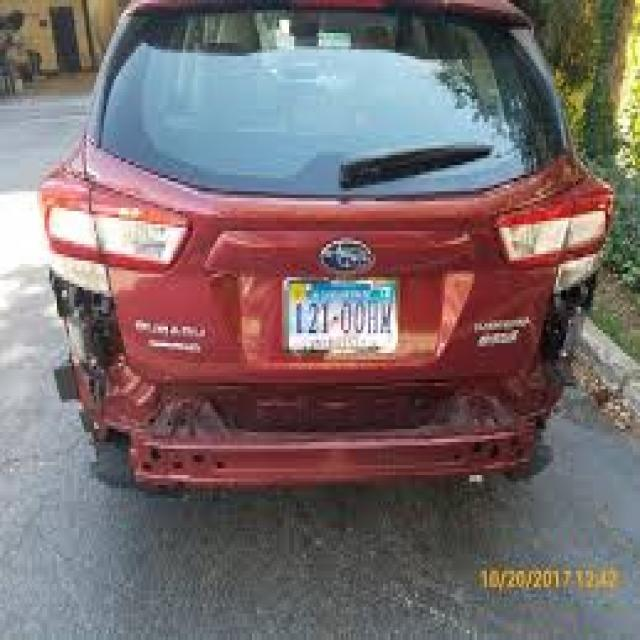damaged-rear-bumper: (55, 370, 581, 486)
